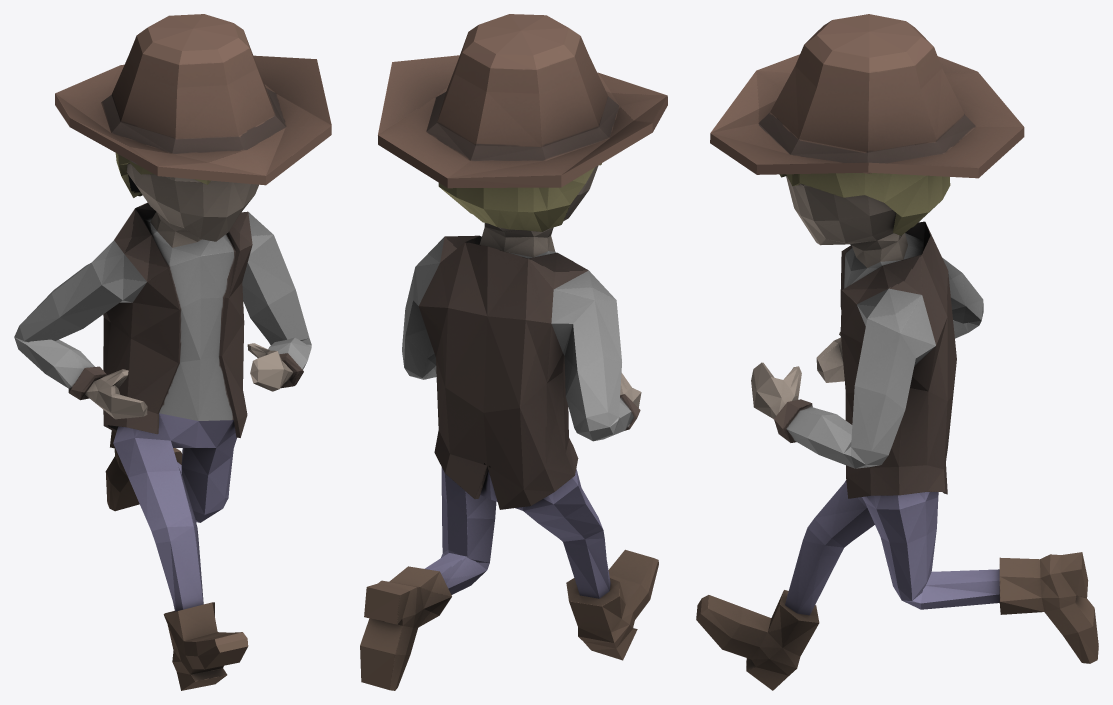
Rendered from char_13.obj.
The picture shows the model from 3 angles, left to right: view 1: azimuth 30°, elevation 25°; view 2: azimuth 150°, elevation 25°; view 3: azimuth 270°, elevation 25°; orthographic projection. The views are drawn at different scales.
Parts seen in each view (by area): view 1: Cube; view 2: Cube; view 3: Cube.
Part boxes in pixels (x1,y1,x2,y2): Cube: (14,14,331,690); Cube: (360,14,667,690); Cube: (696,14,1098,690).
Bounding box in the file's own units: 3.6 × 8.31 × 4.52.
1 material, 1 textured.
